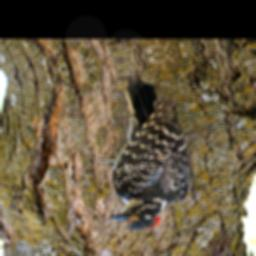Woodpecker: (71, 69, 202, 237)
